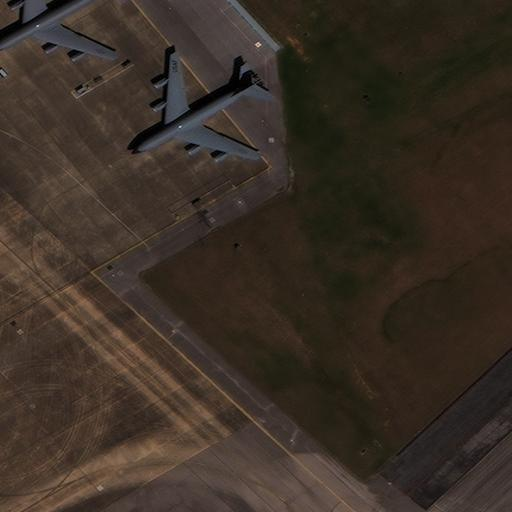Military Transport: (131, 54, 263, 159), (0, 0, 114, 59)
